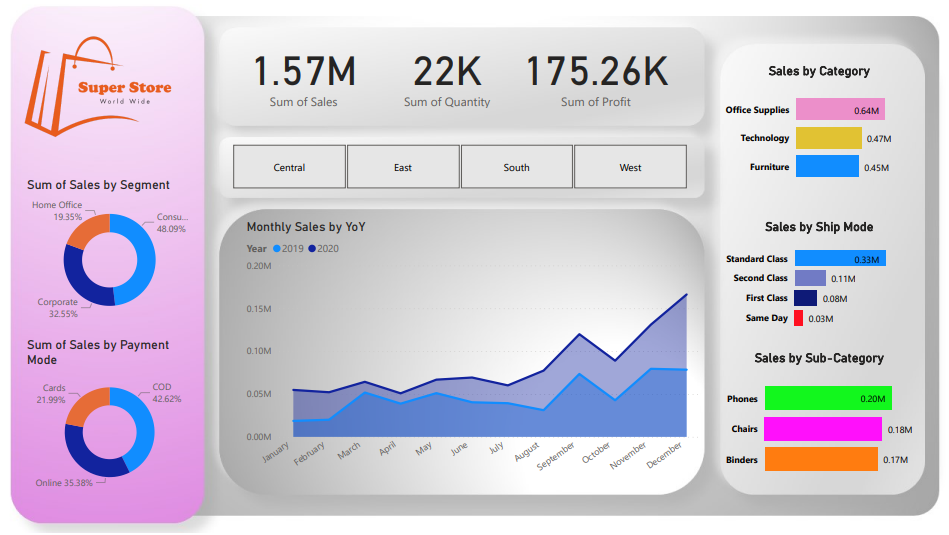

This screenshot's page, from the dashboard's own definition file:
{"tool":"powerbi","page":{"name":"Page 1","canvas":[1280,720],"ordinal":0},"visuals":[{"type":"clusteredBarChart","title":"Sales by Category","fields":{"Category":["Sheet1.Category"],"Y":["Sum(Sheet1.Sales)"]},"box":[965.2,92.1,262.2,174.3],"z":0},{"type":"clusteredBarChart","title":"Sales by Sub-Category","fields":{"Y":["Sum(Sheet1.Sales)"],"Category":["Sheet1.Sub-Category"]},"box":[965.2,474.8,262.2,184.3],"z":1000},{"type":"clusteredBarChart","title":"Sales by Ship Mode","fields":{"Y":["Sum(Sheet1.Sales)"],"Category":["Sheet1.Ship Mode"]},"box":[965.2,300.5,262.2,157.3],"z":2000},{"type":"areaChart","title":"Monthly Sales by YoY","fields":{"Category":["Sheet1.Order Date.Variation.Date Hierarchy.Month","Sheet1.Order Date.Variation.Date Hierarchy.Day"],"Y":["Sum(Sheet1.Sales)"],"Series":["Sheet1.Order Date.Variation.Date Hierarchy.Year"]},"box":[327.4,300.5,615.1,358.6],"z":3000},{"type":"donutChart","fields":{"Category":["Sheet1.Segment"],"Y":["Sum(Sheet1.Sales)"]},"box":[34,243.8,229.6,202.7],"z":5000},{"type":"donutChart","fields":{"Y":["Sum(Sheet1.Sales)"],"Category":["Sheet1.Payment Mode"]},"box":[34,457.8,229.6,215.4],"z":6000},{"type":"slicer","fields":{"Values":["Sheet1.Region"]},"box":[287.7,194.2,654.8,72.3],"z":7000},{"type":"card","title":"Sales","fields":{"Values":["Sum(Sheet1.Sales)"]},"box":[309,53.9,198.4,102],"z":8000},{"type":"card","fields":{"Values":["Sum(Sheet1.Quantity)"]},"box":[527.2,53.9,144.6,102],"z":9000},{"type":"card","fields":{"Values":["Sum(Sheet1.Profit)"]},"box":[671.8,53.9,252.3,102],"z":10000},{"type":"image","box":[10.1,13,244.8,220.3],"z":11000}]}

Visuals, with their boxes in screenshot pixels (x1, y1, x2, y2), scaled from the page's 1280x720 canvas onto the 949x535 screenshot:
"Sales by Category" clusteredBarChart: bbox=[716, 68, 910, 198]
"Sales by Sub-Category" clusteredBarChart: bbox=[716, 353, 910, 490]
"Sales by Ship Mode" clusteredBarChart: bbox=[716, 223, 910, 340]
"Monthly Sales by YoY" areaChart: bbox=[243, 223, 699, 490]
donutChart - Sheet1.Segment x Sum(Sheet1.Sales): bbox=[25, 181, 195, 332]
donutChart - Sum(Sheet1.Sales) x Sheet1.Payment Mode: bbox=[25, 340, 195, 500]
slicer - Sheet1.Region: bbox=[213, 144, 699, 198]
"Sales" card: bbox=[229, 40, 376, 116]
card - Sum(Sheet1.Quantity): bbox=[391, 40, 498, 116]
card - Sum(Sheet1.Profit): bbox=[498, 40, 685, 116]
image: bbox=[7, 10, 189, 173]
